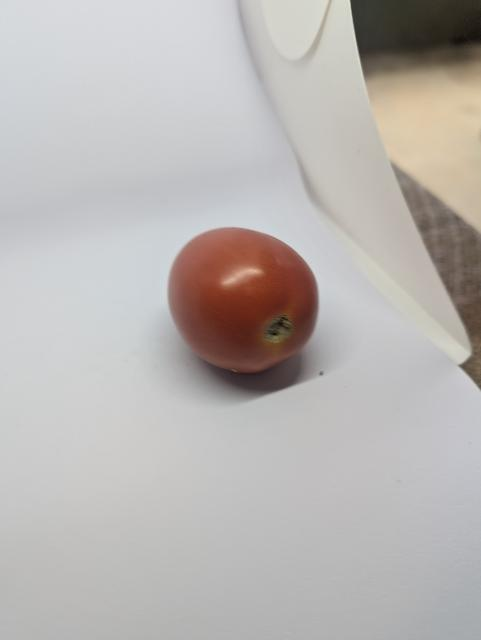red: (152, 217, 335, 386)
